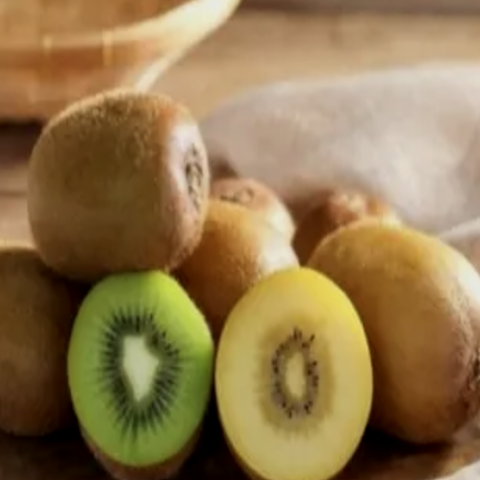kiwi: (294, 183, 480, 478), (13, 82, 224, 275)
